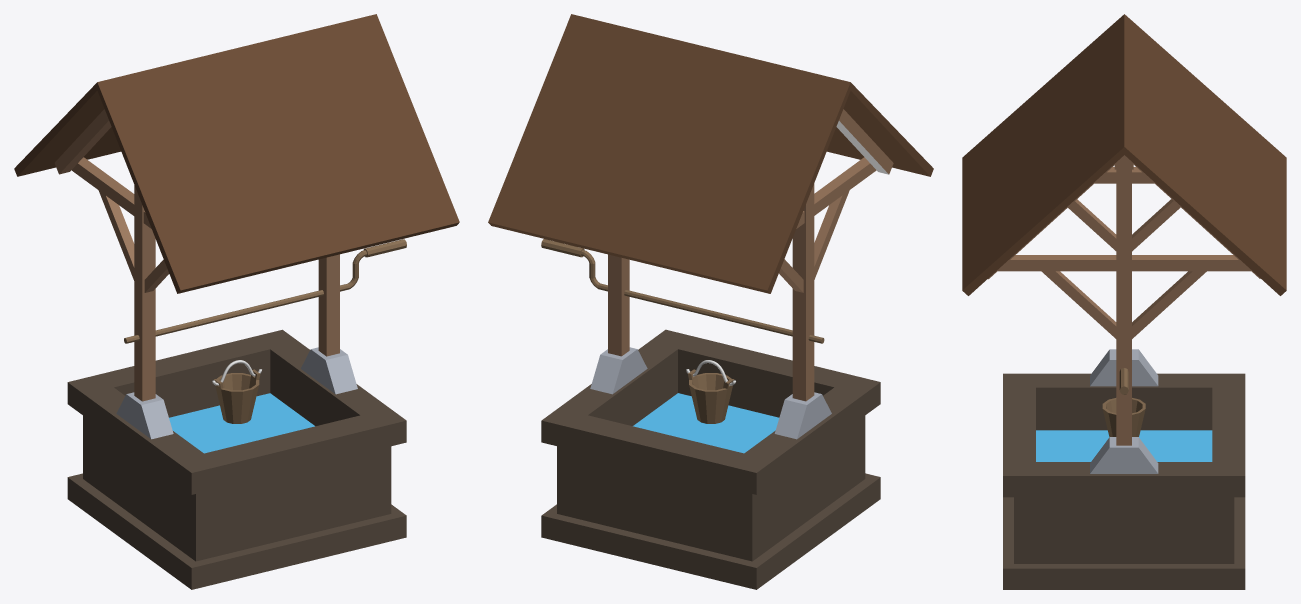
The model's file is DeepWell.fbx.
The picture shows the model from 3 angles, left to right: view 1: azimuth 30°, elevation 25°; view 2: azimuth 150°, elevation 25°; view 3: azimuth 270°, elevation 25°; orthographic projection. The views are drawn at different scales.
Visible parts, largest first — view 1: Deep Well Roof, Deep Well, Deep Well Support, Deep Well Water, Deep well Winch, Deep Well Bucket; view 2: Deep Well Roof, Deep Well, Deep Well Support, Deep Well Water, Deep well Winch, Deep Well Bucket; view 3: Deep Well Roof, Deep Well, Deep Well Support, Deep Well Water, Deep Well Bucket.
Part boxes in pixels (x1,y1,x2,y2): Deep Well Roof: [14, 14, 459, 293]; Deep Well: [67, 329, 406, 589]; Deep Well Support: [54, 109, 357, 439]; Deep Well Water: [169, 393, 314, 453]; Deep well Winch: [124, 239, 406, 343]; Deep Well Bucket: [214, 369, 260, 423]; Deep Well Roof: [488, 14, 933, 293]; Deep Well: [541, 329, 880, 589]; Deep Well Support: [590, 109, 893, 439]; Deep Well Water: [633, 393, 778, 453]; Deep well Winch: [541, 239, 824, 343]; Deep Well Bucket: [688, 369, 734, 423]; Deep Well Roof: [962, 14, 1286, 295]; Deep Well: [1003, 373, 1245, 589]; Deep Well Support: [988, 155, 1260, 473]; Deep Well Water: [1036, 430, 1212, 461]; Deep Well Bucket: [1102, 398, 1145, 436].
Bounding box in the file's own units: 2.2 × 2.06 × 3.22.
